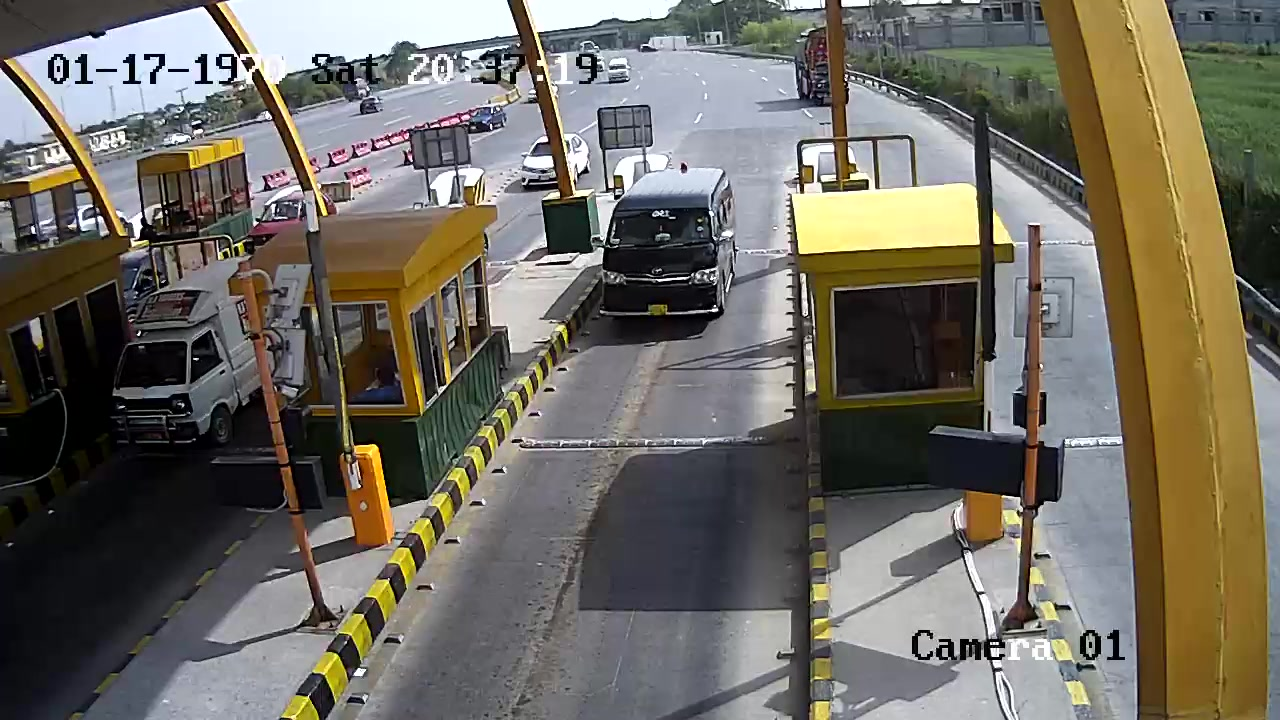F3: (594, 161, 750, 350)
